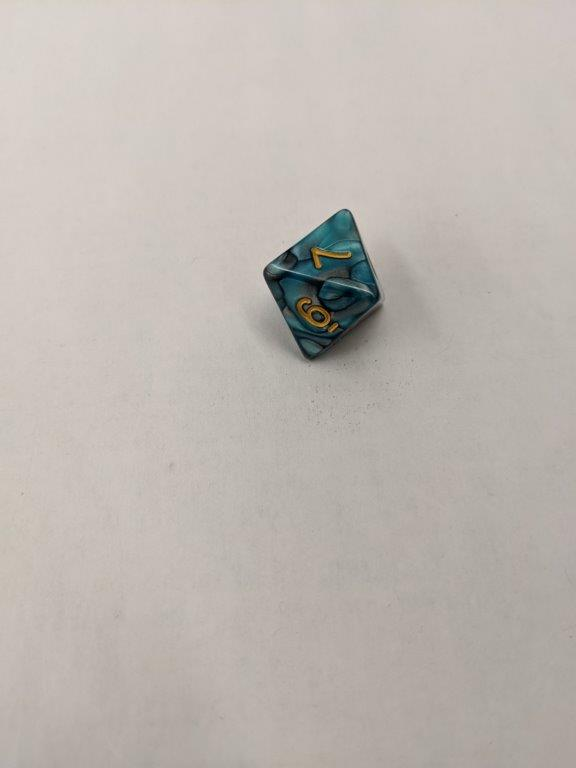d8-7: (263, 207, 386, 368)
